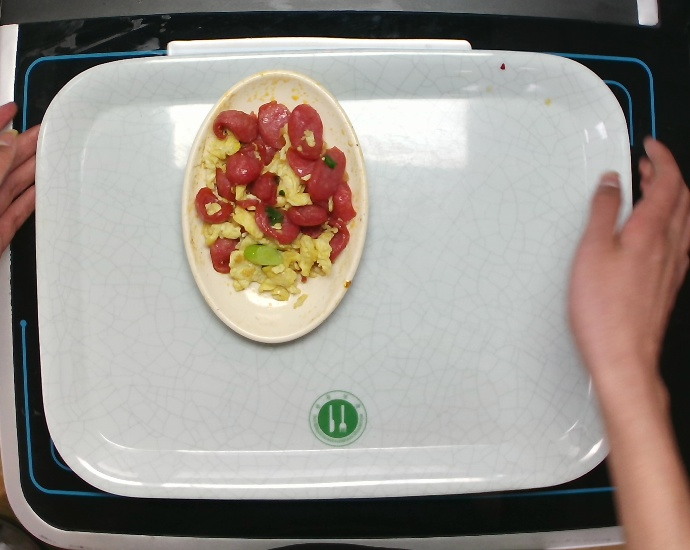JYsf-Tuo_Yuan_Wan: (178, 69, 370, 345)
